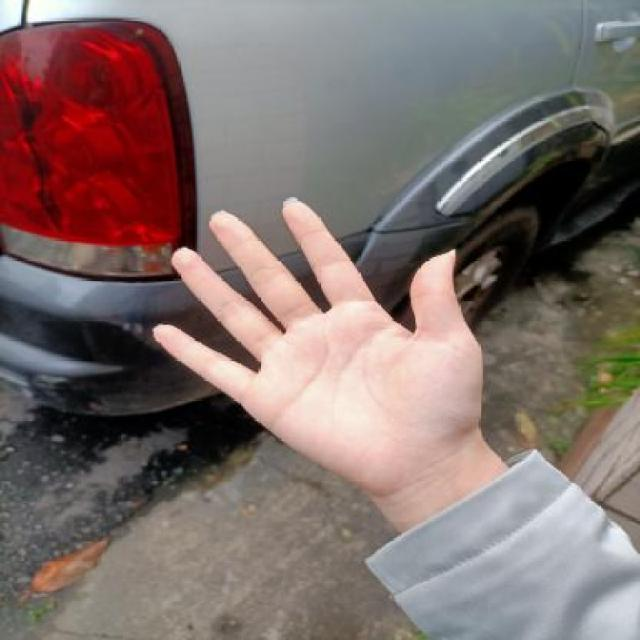bare_hand: (143, 178, 502, 507)
